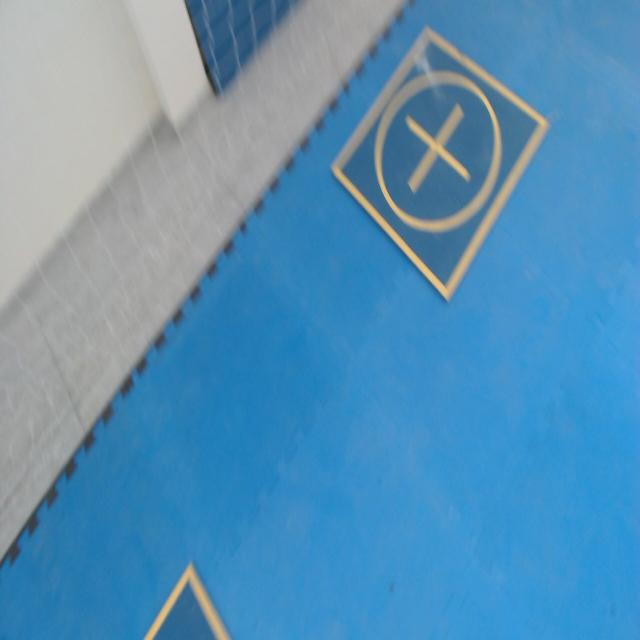base_pouso: (329, 25, 552, 306), (143, 560, 231, 639)
